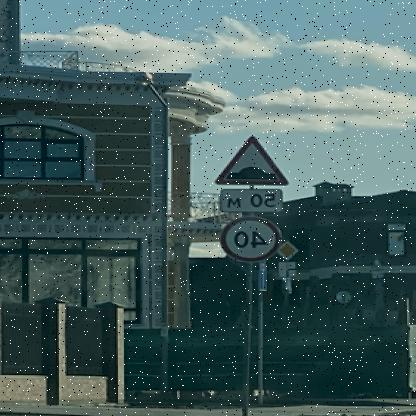speedlimit: (223, 216, 283, 262)
